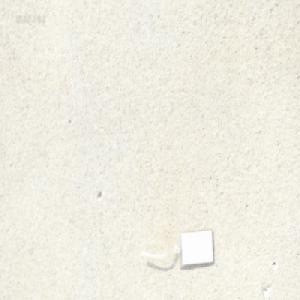LuggageTag: (136, 227, 213, 269)
